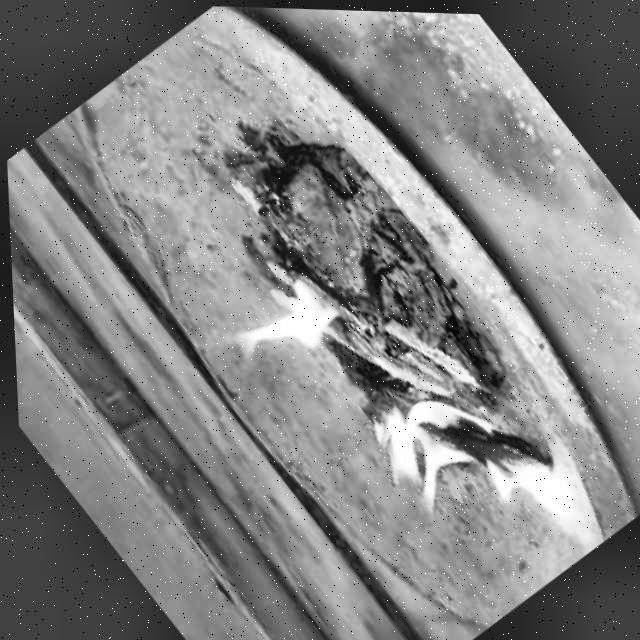Fire: (344, 343, 599, 609), (197, 249, 362, 406)
